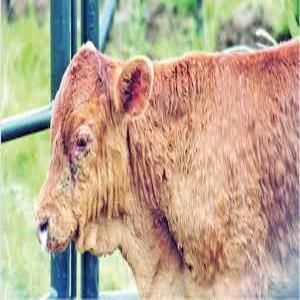lumpy skin diesease: (32, 24, 299, 299)
